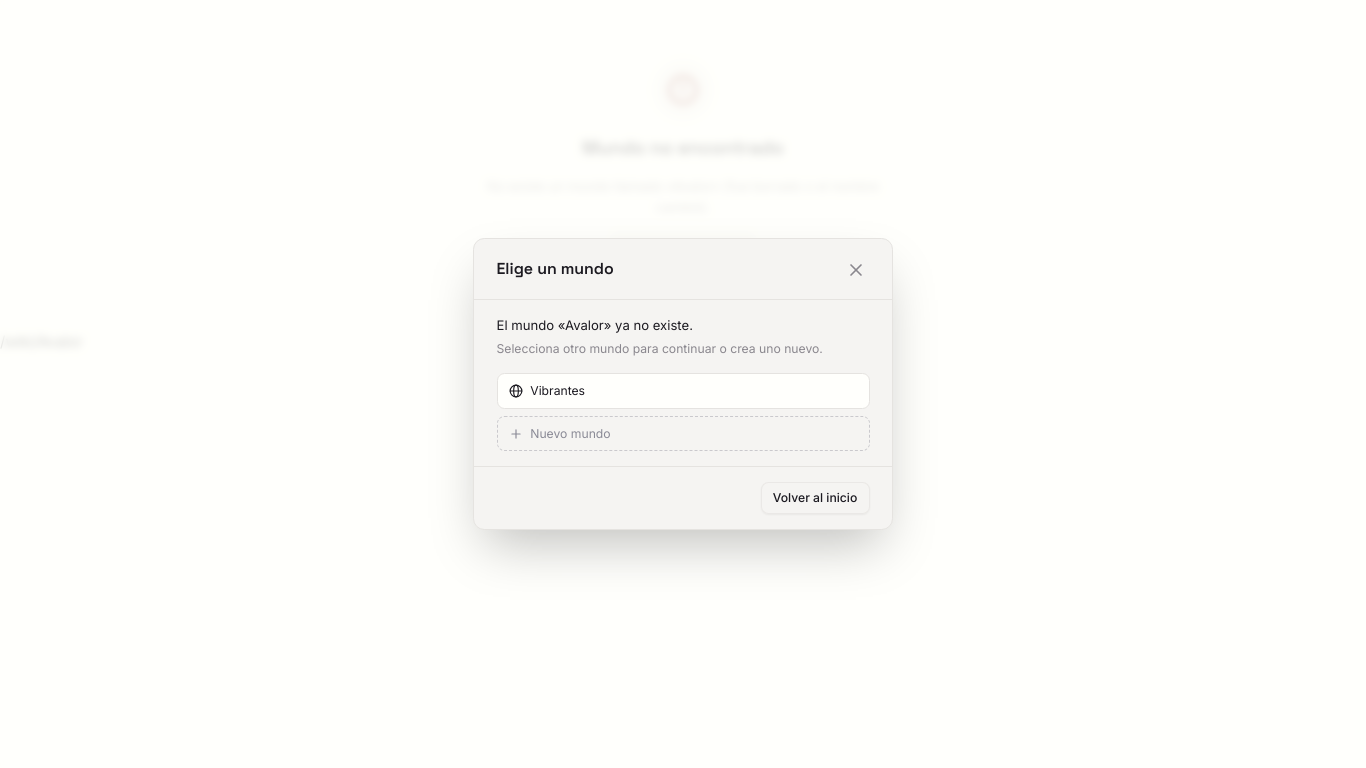
Test: WorldNotFound › opens the create-world dialog when 'Nuevo mundo' is clicked
The width and height of the screenshot is (1366, 768).
Click the button "Nuevo mundo" at point(570, 433), box [496,416,870,451]
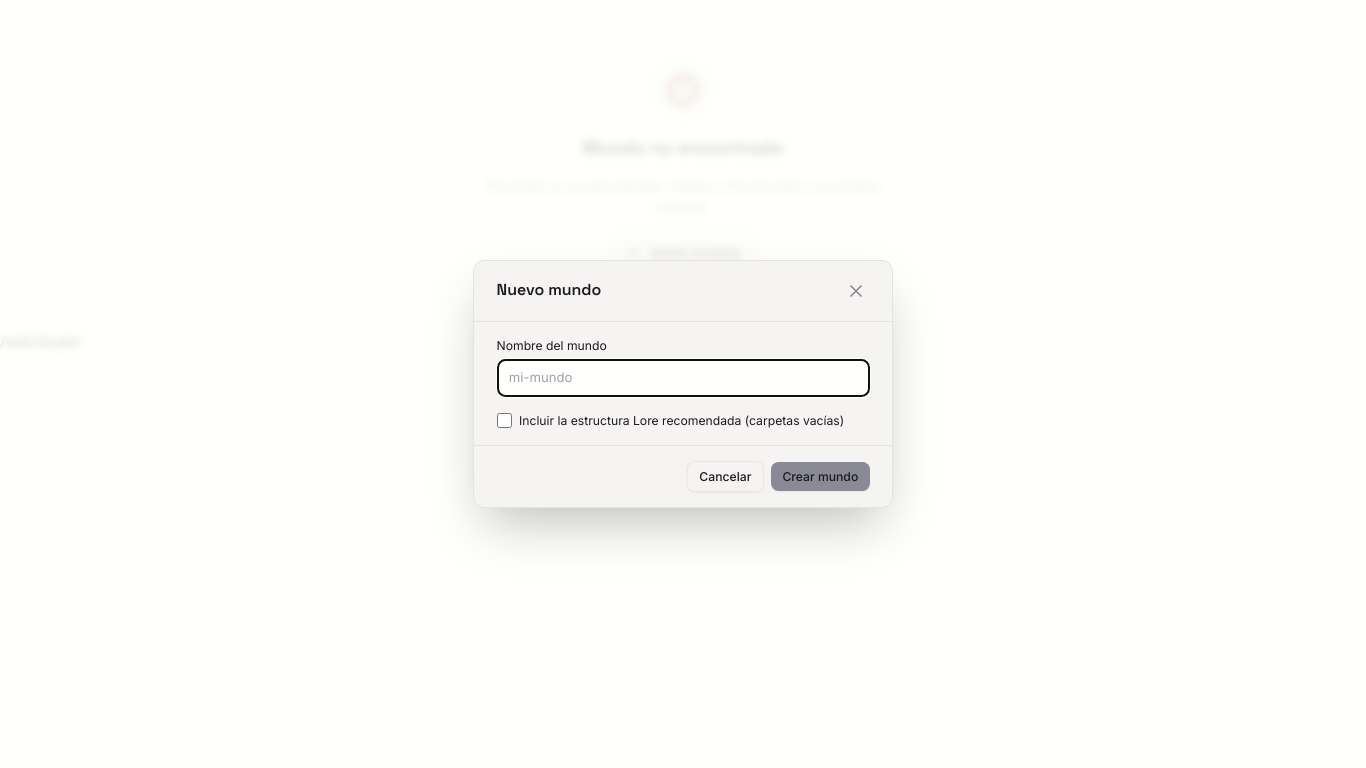
Expected: the dialog is shown, [473,260,893,508]
Result: the field labelled "Nombre del mundo" is shown at [496,359,870,397]
Result: the heading "Elige un mundo" is gone
